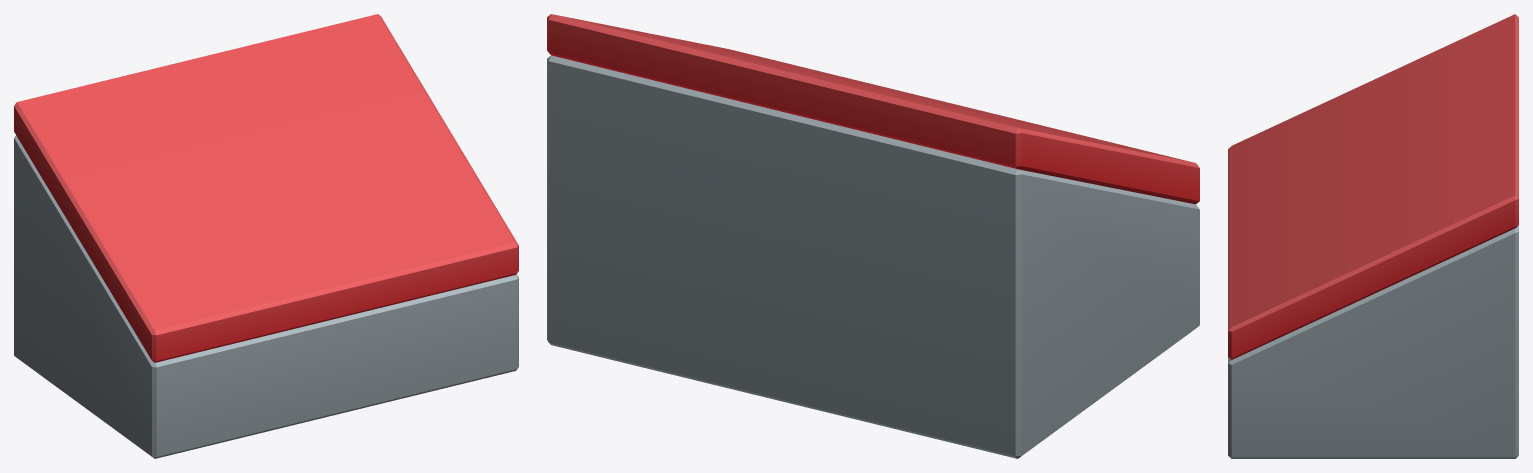
File: platform_slope_6x4x4_red.glb
The picture shows the model from 3 angles, left to right: view 1: azimuth 30°, elevation 25°; view 2: azimuth 150°, elevation 25°; view 3: azimuth 270°, elevation 25°; orthographic projection. The views are drawn at different scales.
Parts seen in each view (by area): view 1: platform_slope_6x4x4_red; view 2: platform_slope_6x4x4_red; view 3: platform_slope_6x4x4_red.
Part boxes in pixels (x1,y1,x2,y2): platform_slope_6x4x4_red: (14,14,518,458); platform_slope_6x4x4_red: (547,14,1199,458); platform_slope_6x4x4_red: (1228,14,1518,458).
Size of the model in its own units: 6 by 4 by 4.
Materials: 1 (1 with a texture image).
